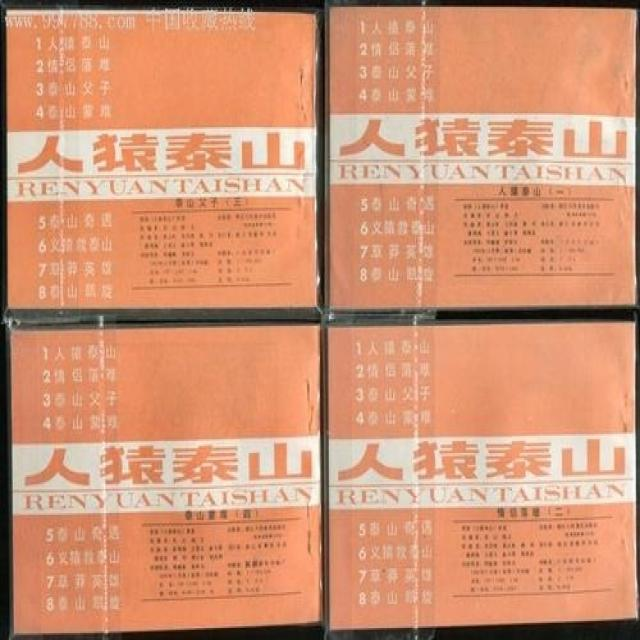box: (9, 321, 326, 637), (322, 1, 639, 316), (1, 10, 322, 315), (327, 321, 639, 633)
